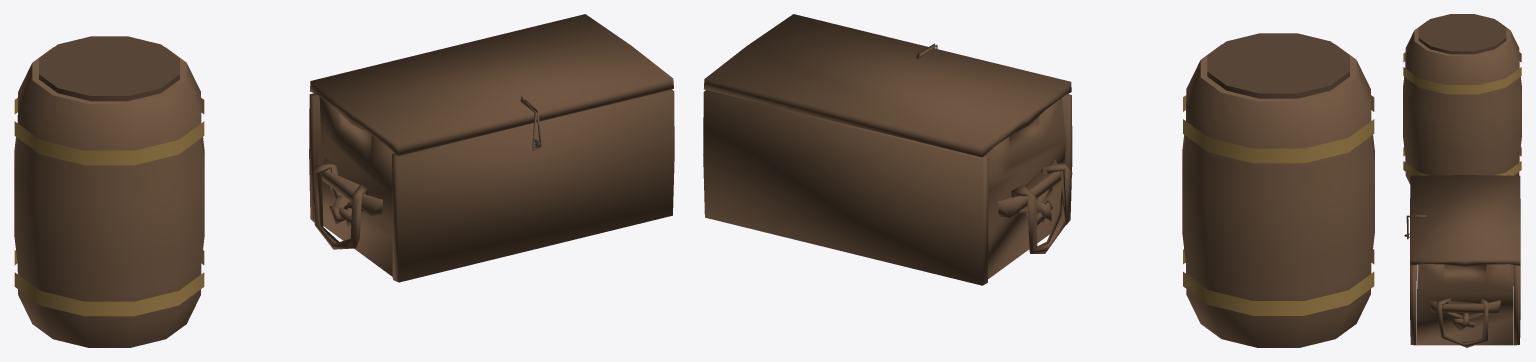
File: kit_cc0.glb
The picture shows the model from 3 angles, left to right: view 1: azimuth 30°, elevation 25°; view 2: azimuth 150°, elevation 25°; view 3: azimuth 270°, elevation 25°; orthographic projection. The views are drawn at different scales.
Visible parts, largest first — view 1: plank_box, cask; view 2: plank_box, cask; view 3: plank_box, cask.
Boxes of the visible parts, box(x1,y1,x2,y2) form: plank_box: box(309, 14, 674, 282); cask: box(14, 36, 204, 347); plank_box: box(703, 14, 1072, 285); cask: box(1182, 33, 1374, 347); plank_box: box(1404, 175, 1520, 347); cask: box(1403, 14, 1521, 184).
Size of the model in its own units: 2.7 by 1.02 by 0.7078.
